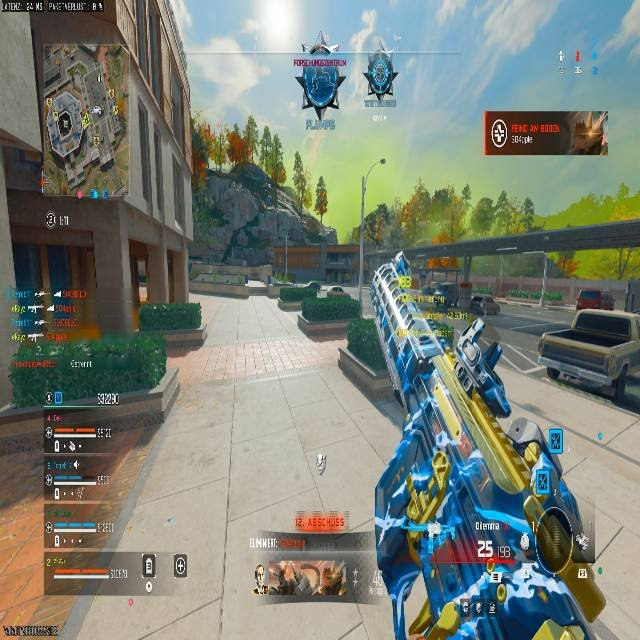player: (295, 30, 344, 127), (453, 566, 511, 639)
